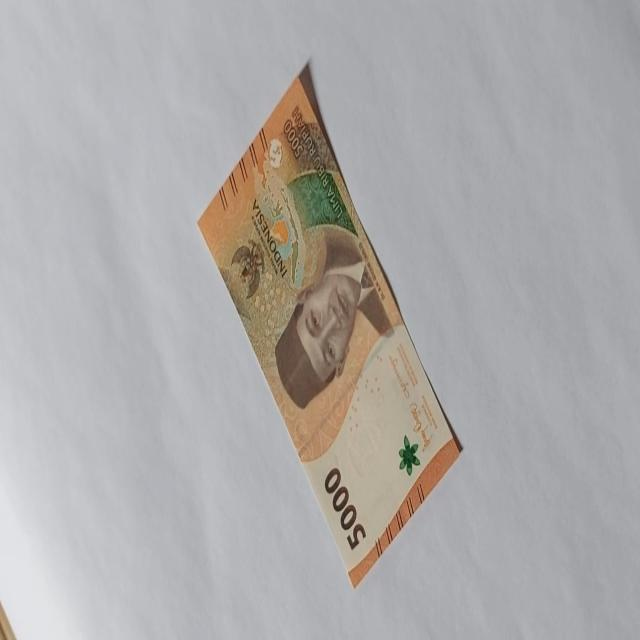lima ribu rupiah: (196, 59, 462, 588)
